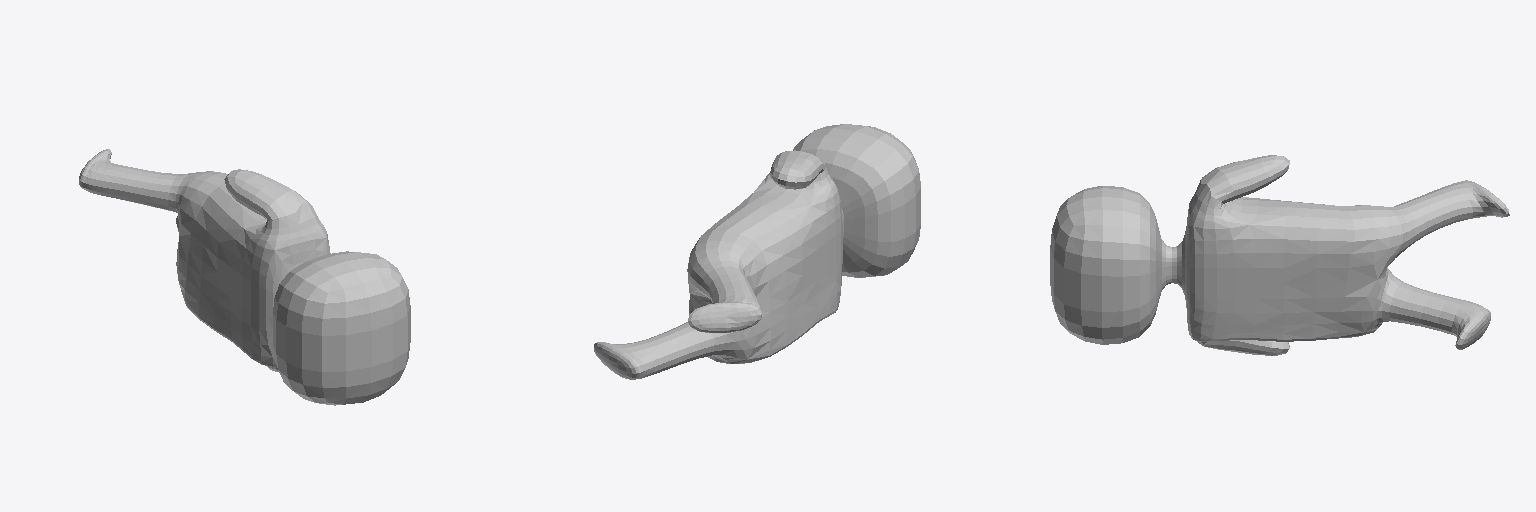
File: antman_walk_12.obj
3 renders of one model, left to right at view 1: azimuth 30°, elevation 25°; view 2: azimuth 150°, elevation 25°; view 3: azimuth 270°, elevation 25°, orthographic.
Parts seen in each view (by area): view 1: Cube; view 2: Cube; view 3: Cube.
Boxes of the visible parts, <box> form: Cube: <box>79,149,410,405</box>; Cube: <box>594,124,920,379</box>; Cube: <box>1050,155,1509,355</box>.
Bounding box in the file's own units: 0.8329 × 0.8482 × 1.95.